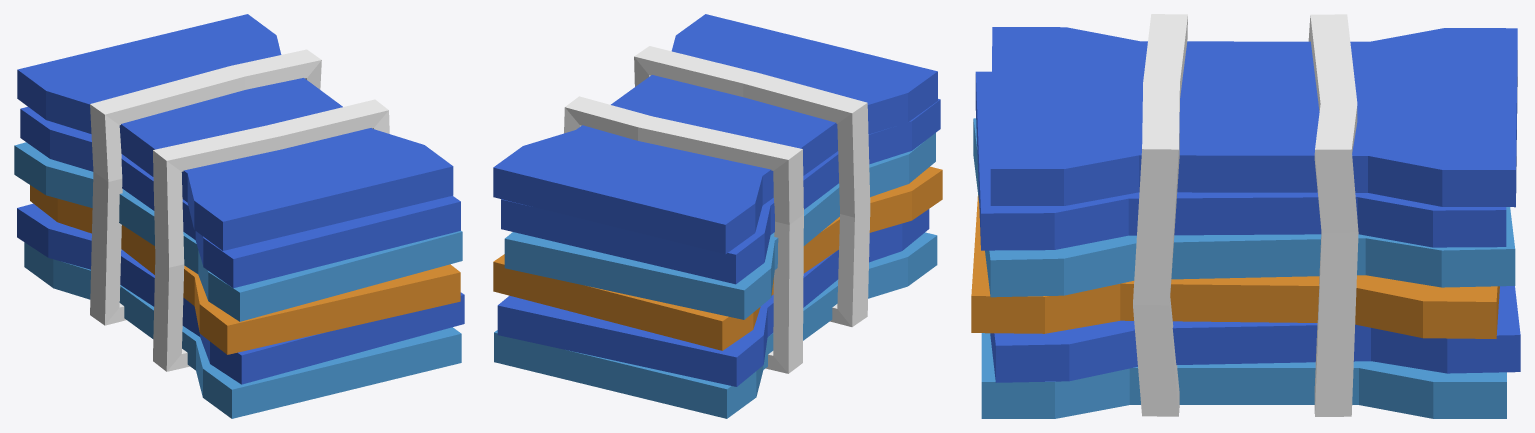
File: plastic_element.fbx
3 renders of one model, left to right at view 1: azimuth 30°, elevation 25°; view 2: azimuth 150°, elevation 25°; view 3: azimuth 270°, elevation 25°, orthographic. The views are drawn at different scales.
Parts seen in each view (by area): view 1: plastic_element; view 2: plastic_element; view 3: plastic_element.
Part boxes in pixels (x1,y1,x2,y2): plastic_element: (14,14,464,418); plastic_element: (493,14,942,418); plastic_element: (971,14,1520,418).
Bounding box in the file's own units: 109 × 87.02 × 162.
